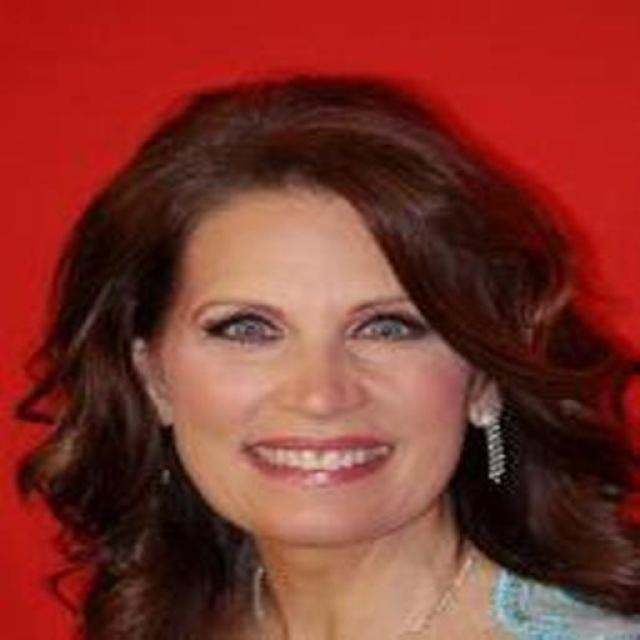bareface: (100, 111, 550, 516)
